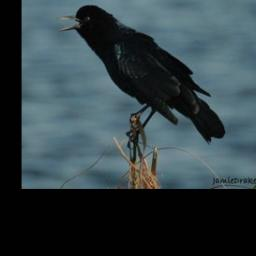Crow: (57, 5, 225, 149)
